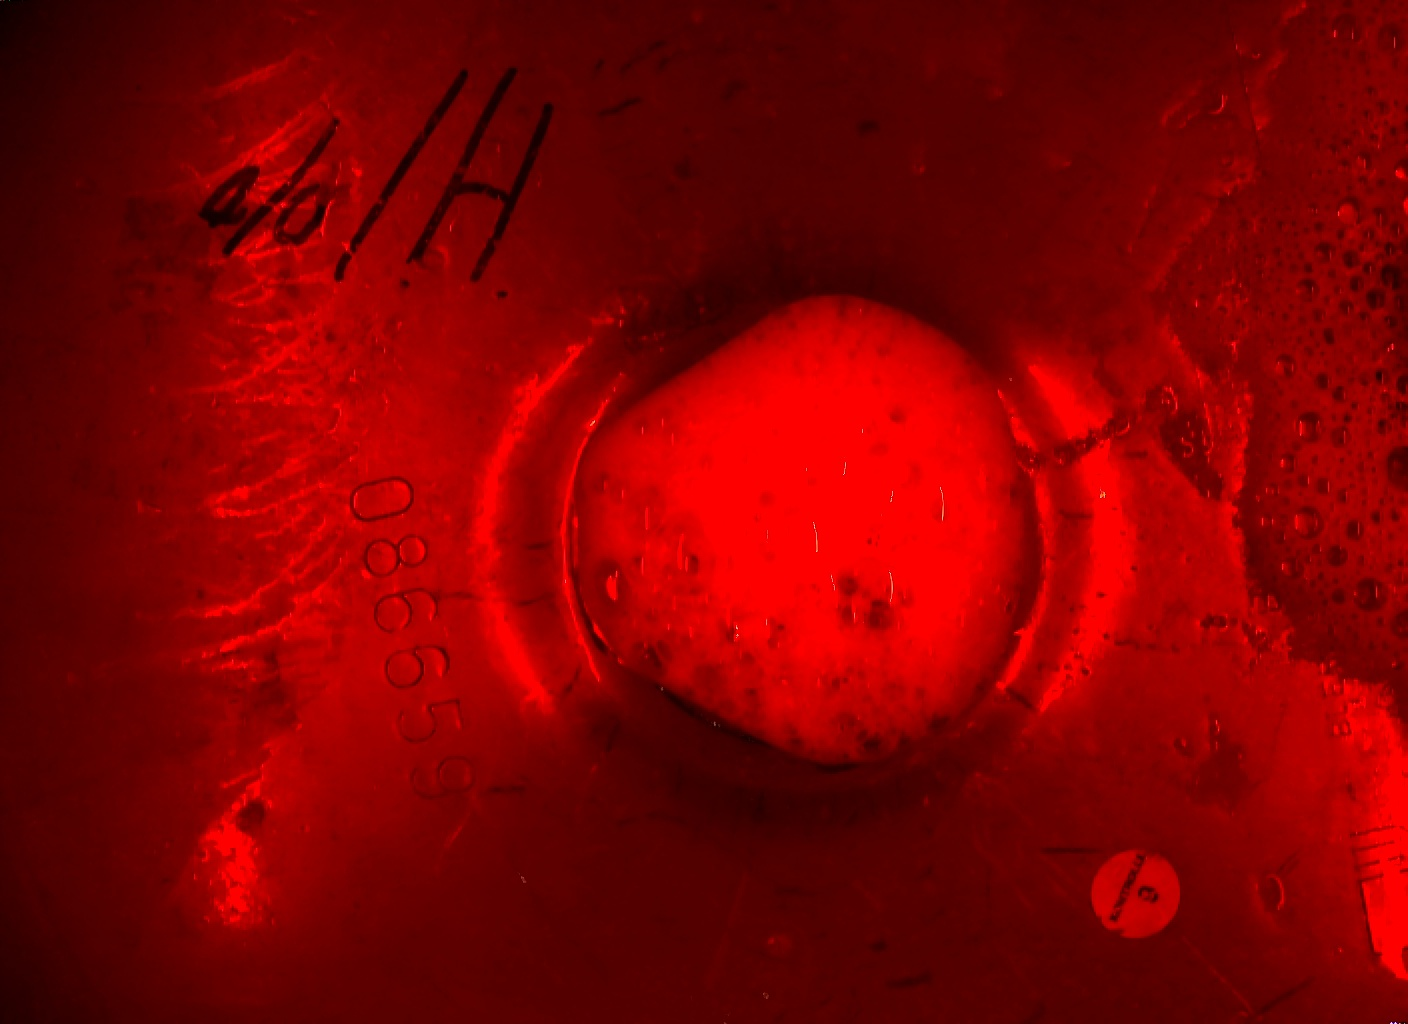pena: (1157, 1, 1408, 702)
shapka: (556, 284, 1039, 779)
